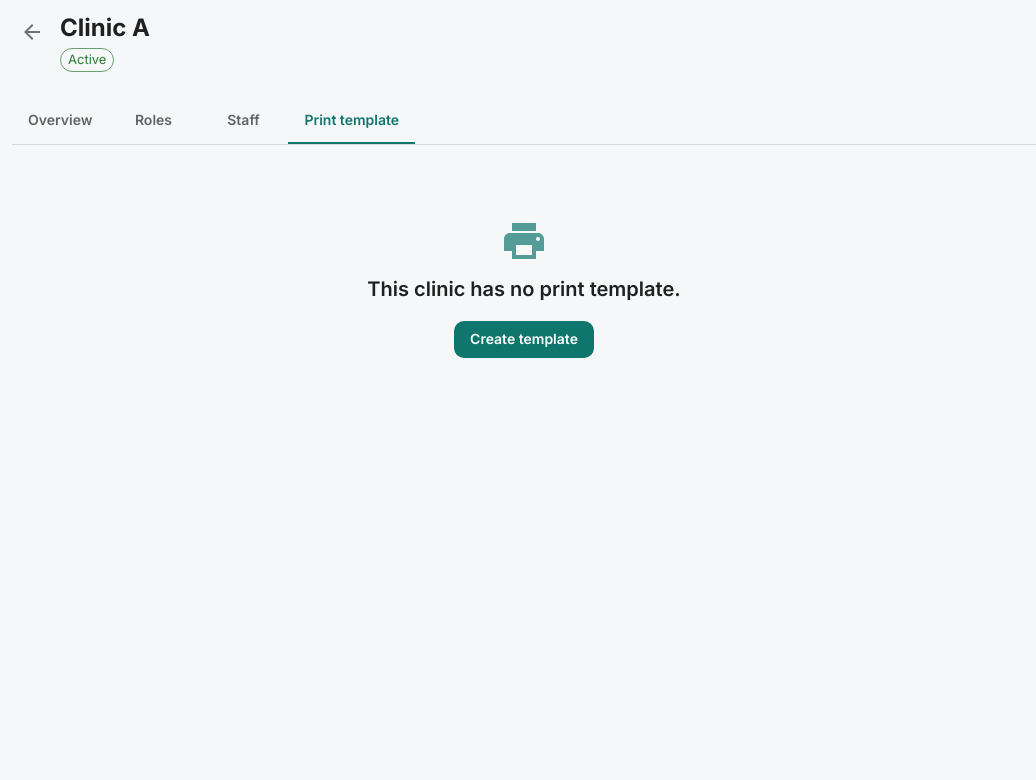
Test: print template: the paper size @area:admin › A5 to A4: the sheet resizes, items keep their mm @TPL-047
Click the button "Create template" at [524, 339], box [454,321,594,358]
(page scrolled)
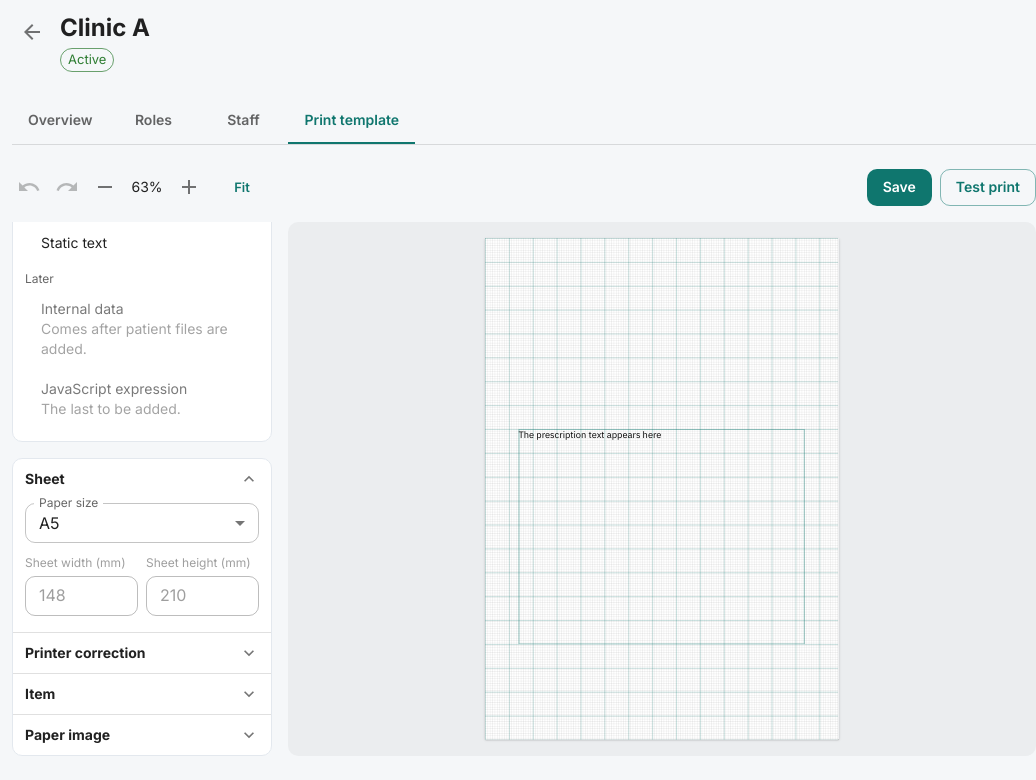
Click the dropdown labelled "A5" at [49, 523], box [39,513,60,533]
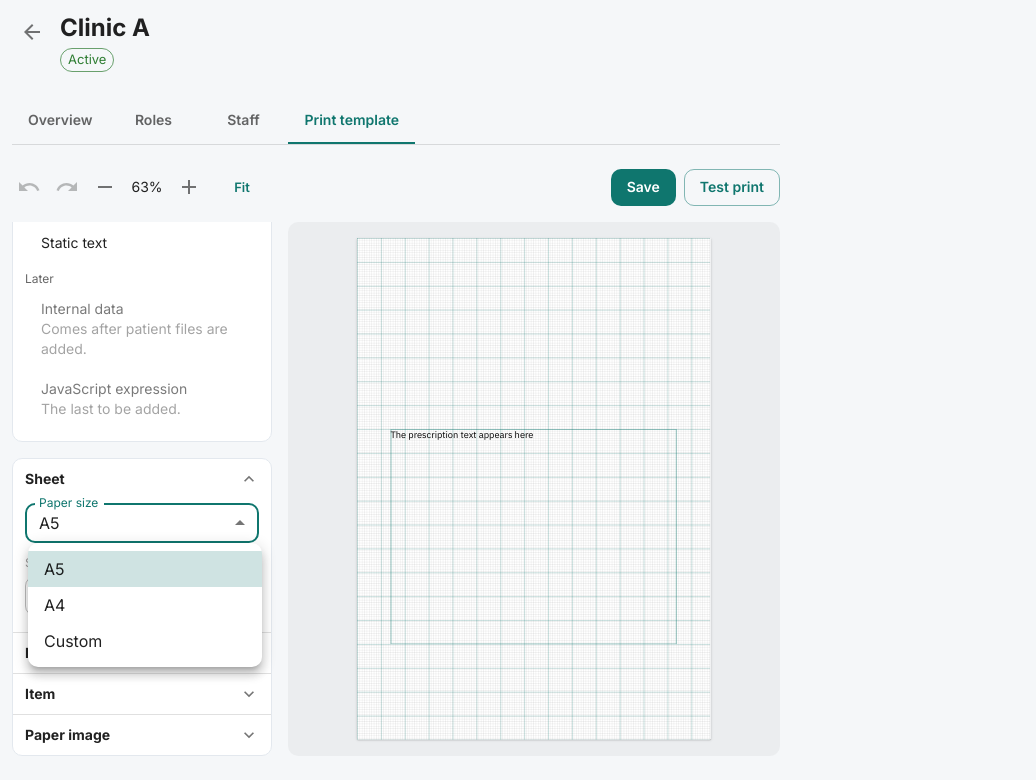
Click the option "A4" at [55, 605], box [44,595,65,615]
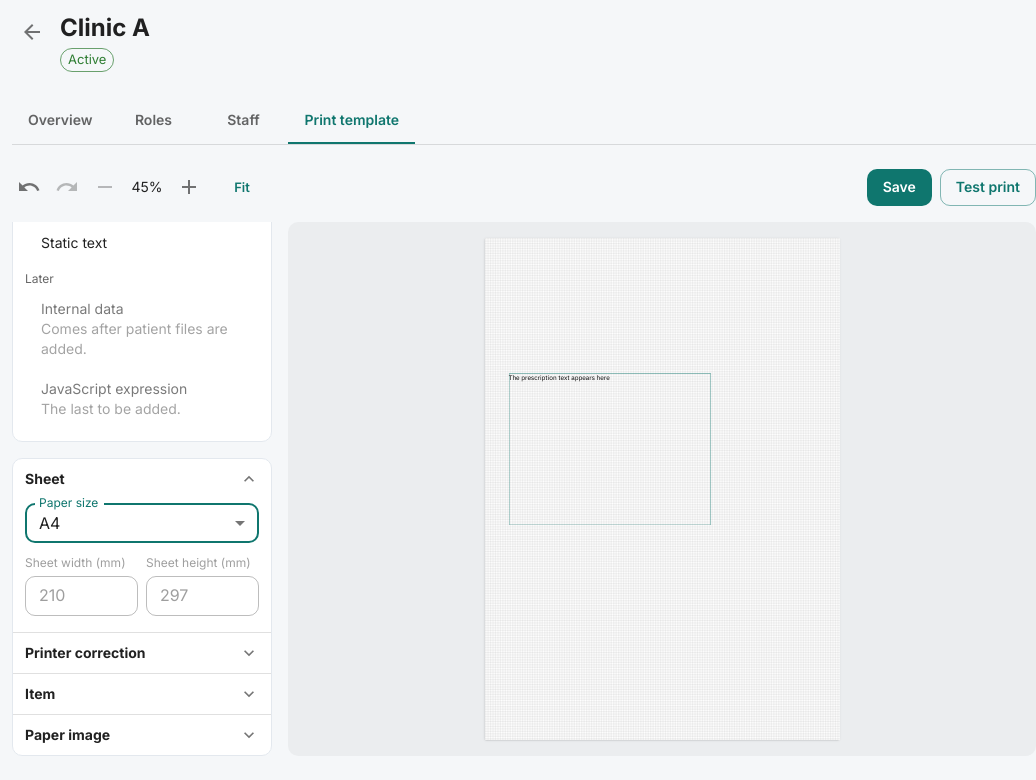
Result: the list "A5 A4 Custom" is gone
Result: the dropdown labelled "A4" is shown at [39,513,60,533]
Result: the field labelled "Sheet width (mm)" holds "210" at [25,576,138,616]
